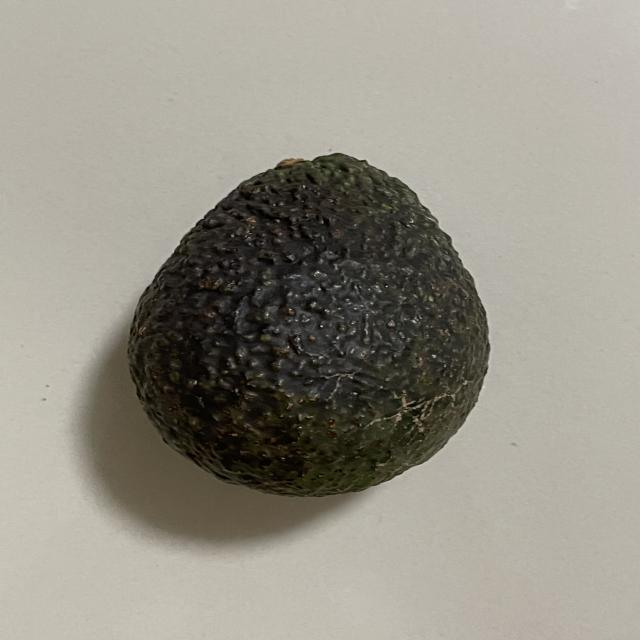Level1: (112, 140, 510, 520)
